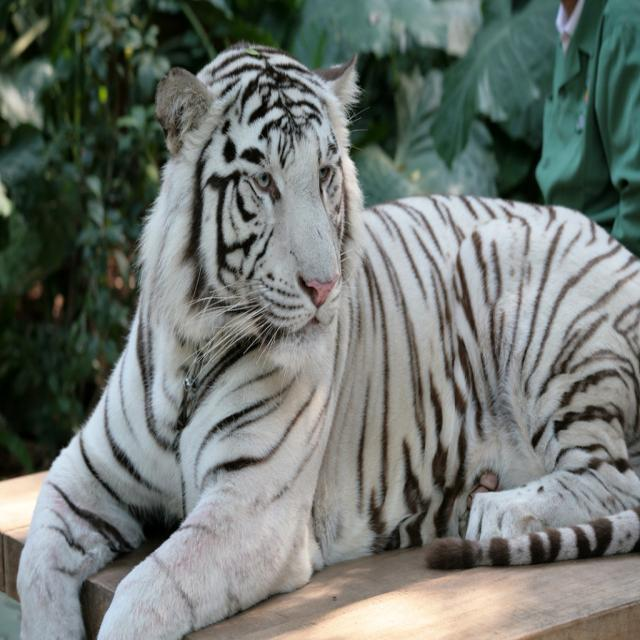Tiger: (14, 33, 640, 640)
